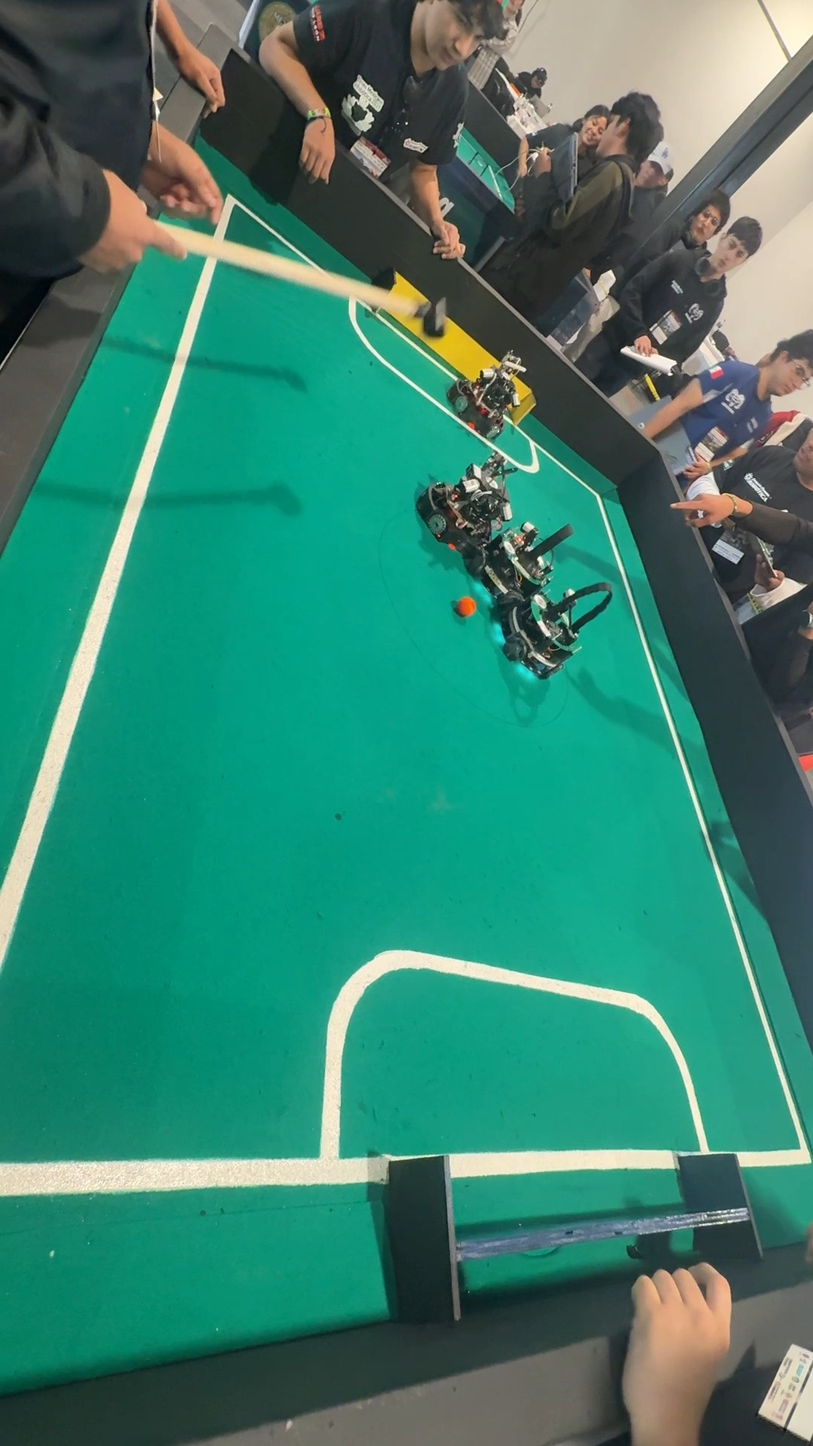Robot: (513, 586, 607, 690), (437, 439, 507, 552), (491, 503, 564, 606), (449, 340, 522, 426)
pelota: (456, 596, 474, 622)
